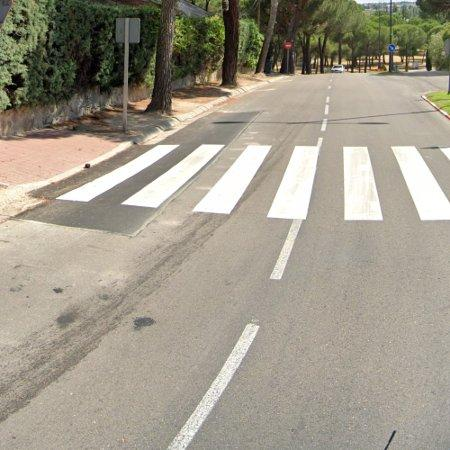crosswalks: (55, 144, 450, 221)
